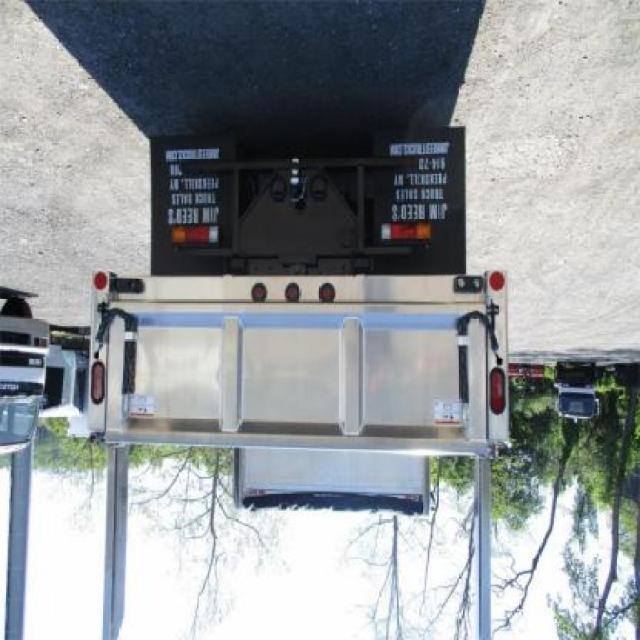truck: (91, 124, 513, 513)
